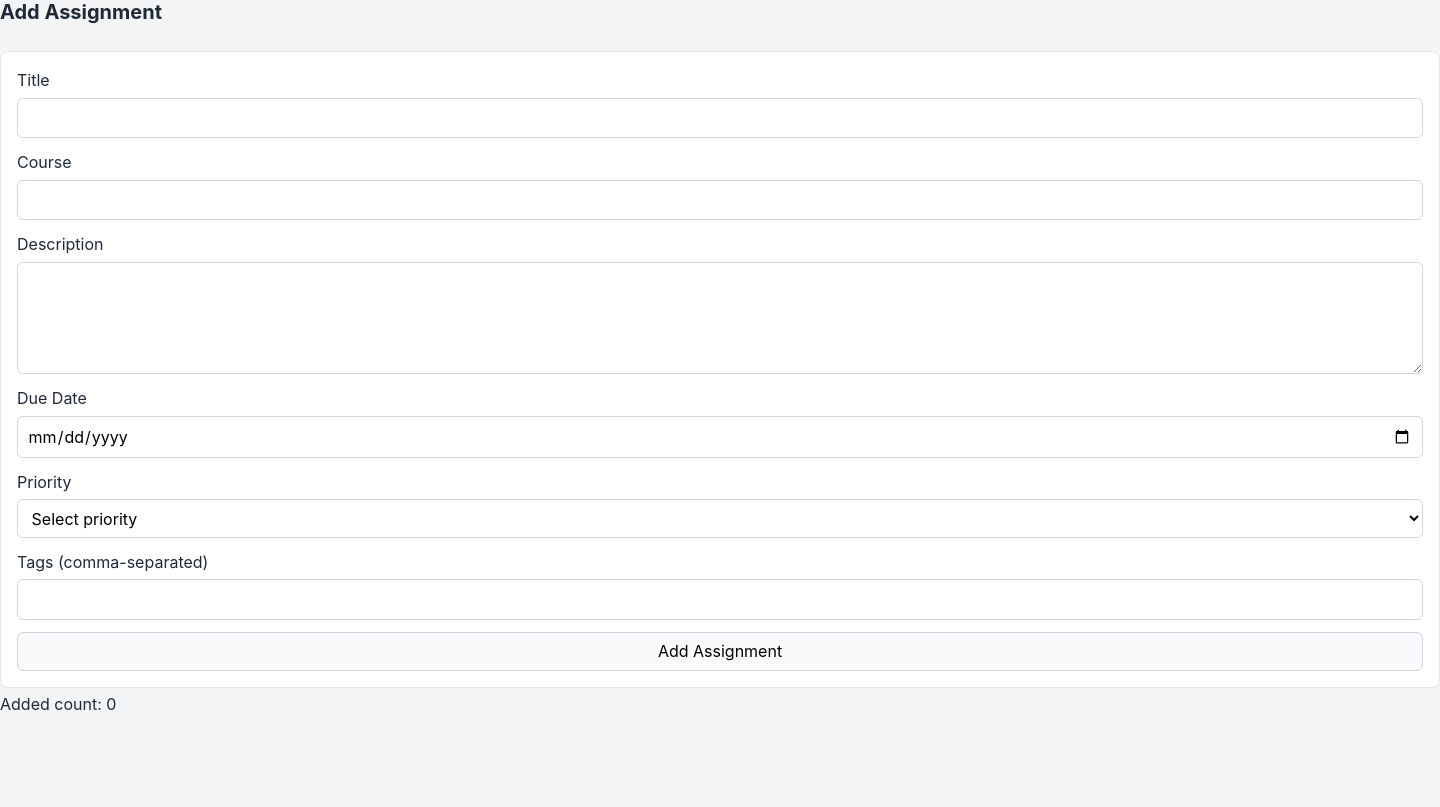
Test: Assignment Planner behavior › adds a new assignment through the controlled form
Type "Database Project Draft" into the field labelled "Title" at (720, 118), box 17,98 -> 1423,138
Type "CS 340" into the field labelled "Course" at (720, 200), box 17,180 -> 1423,220
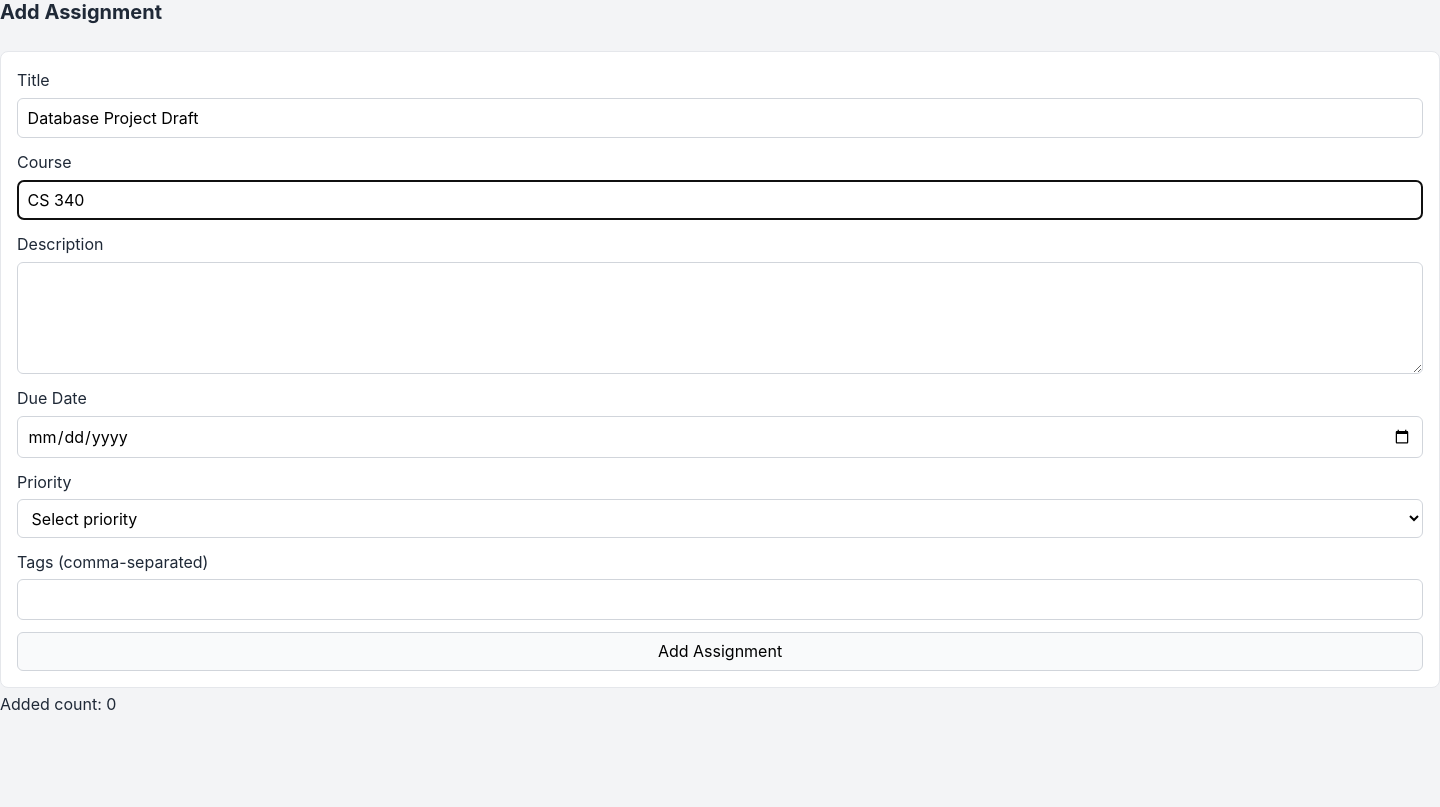
Type "Initial ERD and schema plan" into the text box labelled "Description" at (720, 318), box 17,262 -> 1423,374
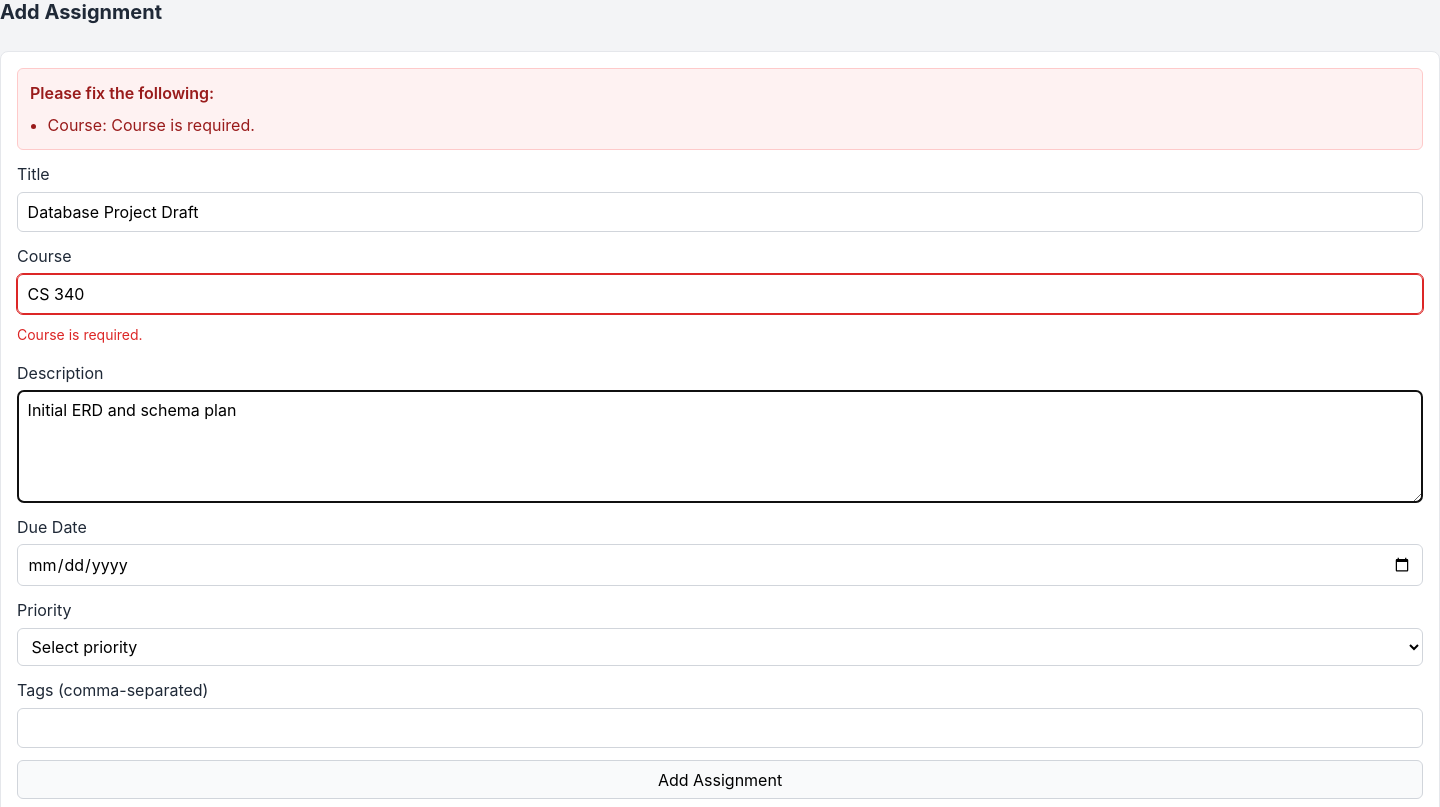
Type "2026-08-15" into the date field labelled "Due Date" at (720, 565), box 17,544 -> 1423,586
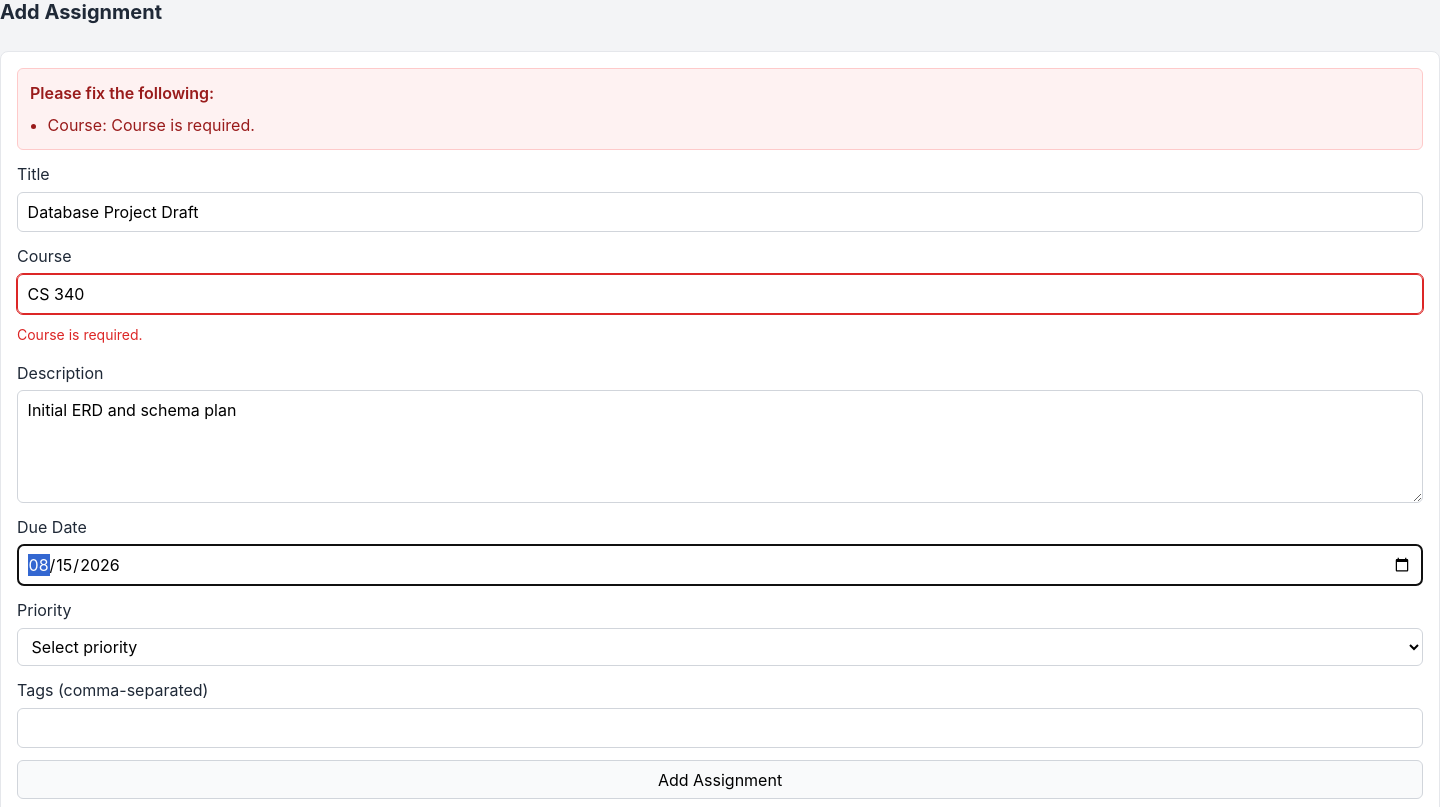
Select "High" in the dropdown labelled "Priority" at (720, 647), box 17,628 -> 1423,666
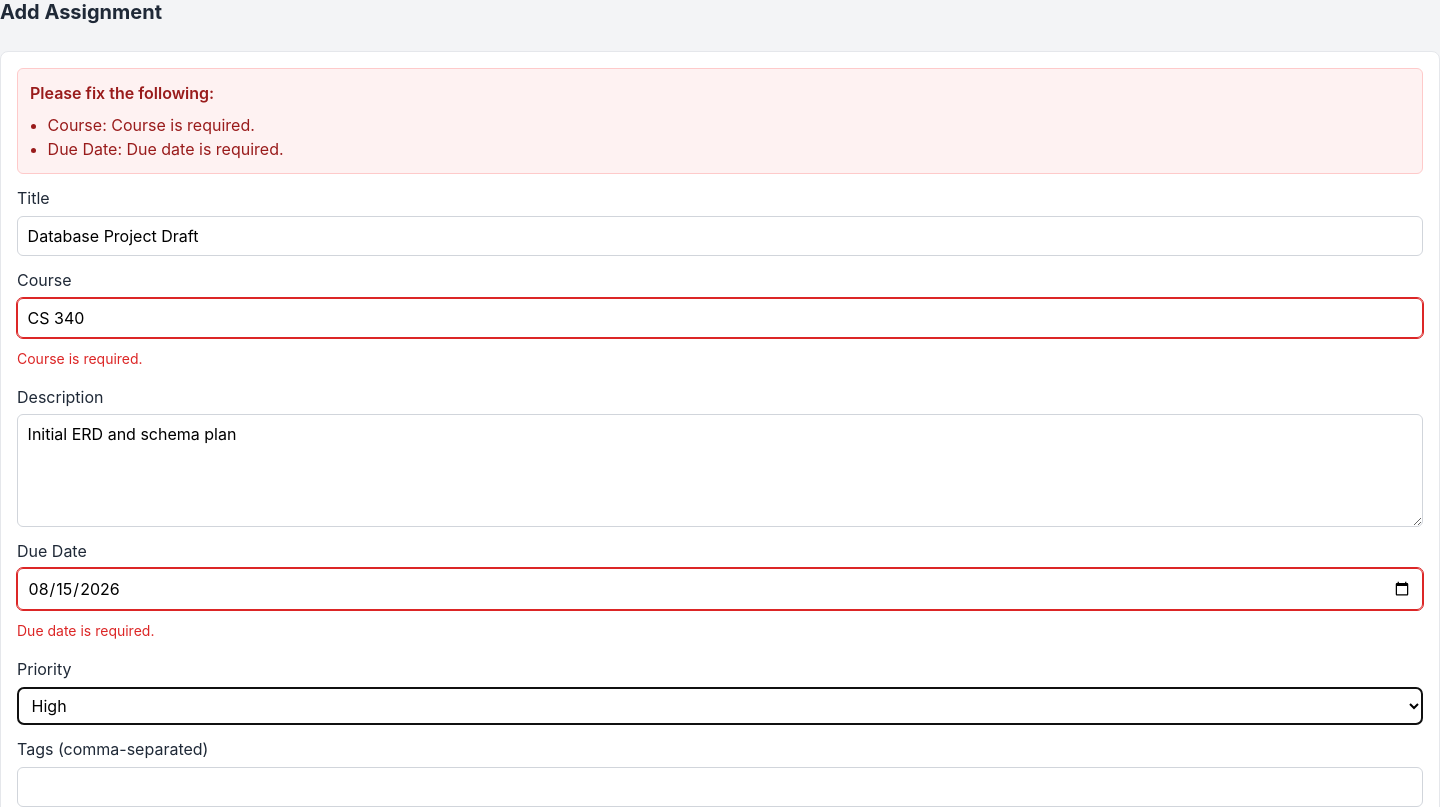
Type "project, database" into the field labelled "Tags (comma-separated)" at (720, 787), box 17,767 -> 1423,806
(page scrolled)
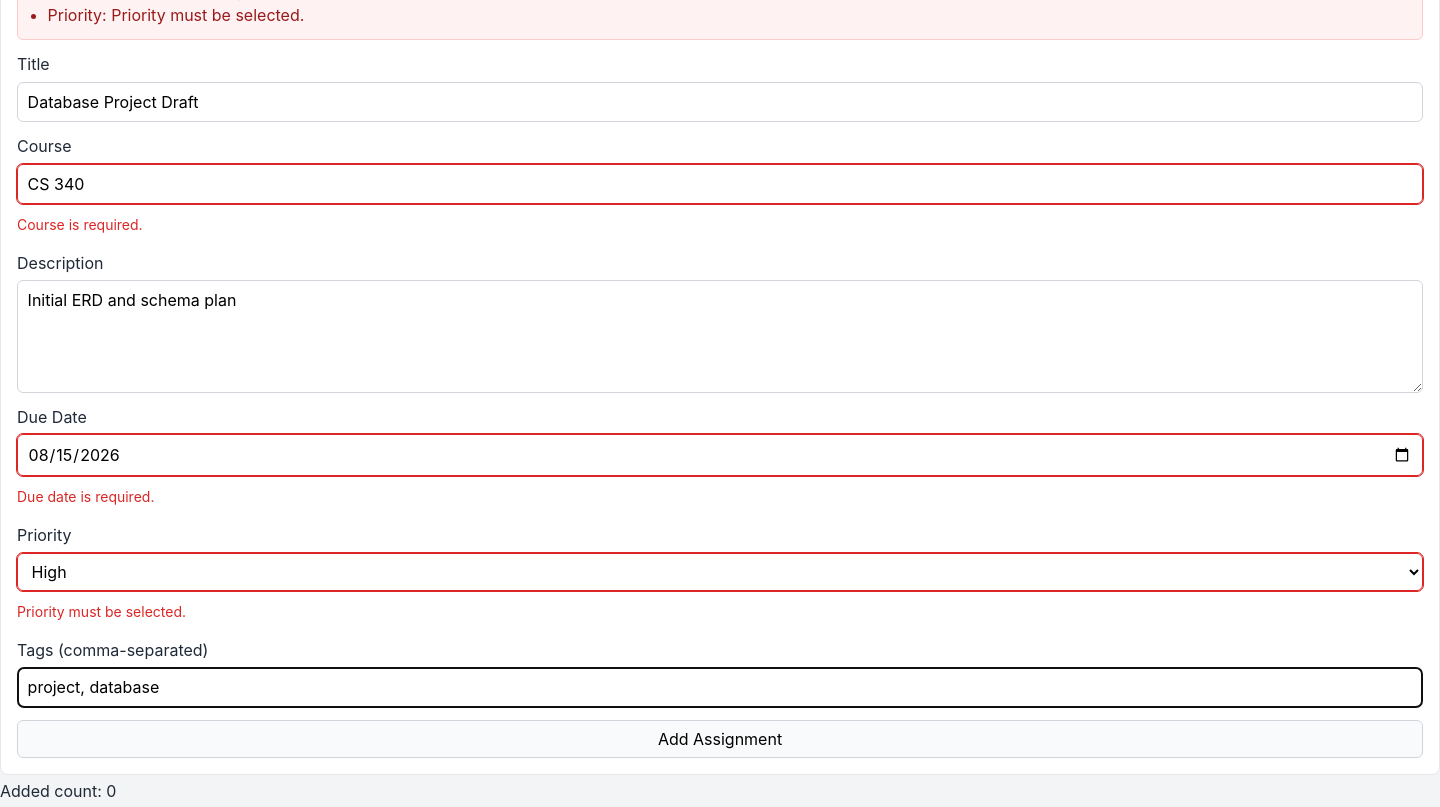
Click the button "Add Assignment" at (720, 739), box 17,720 -> 1423,758
(page scrolled)
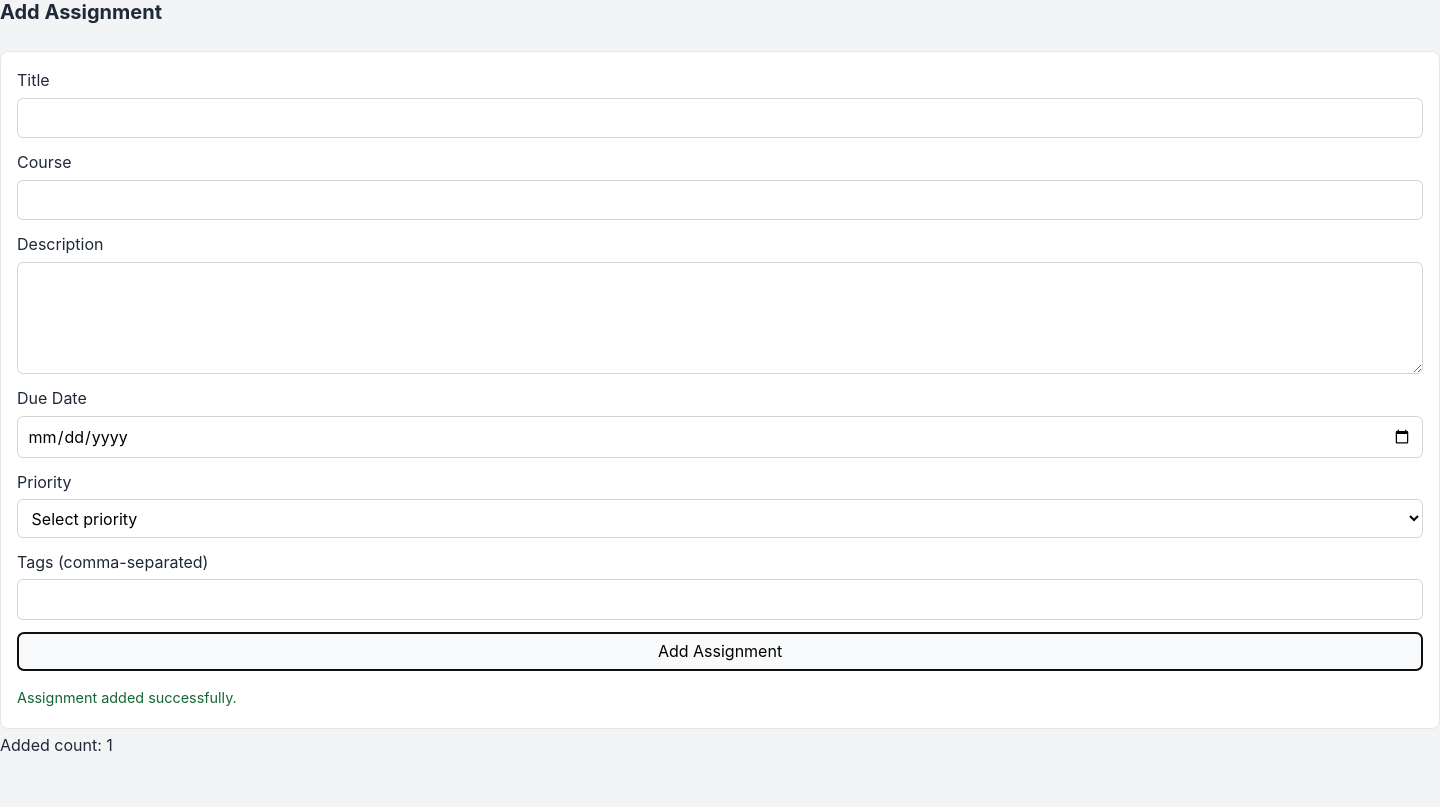
Expected: the text "Added count: 1" is shown, 0,735 -> 113,755
